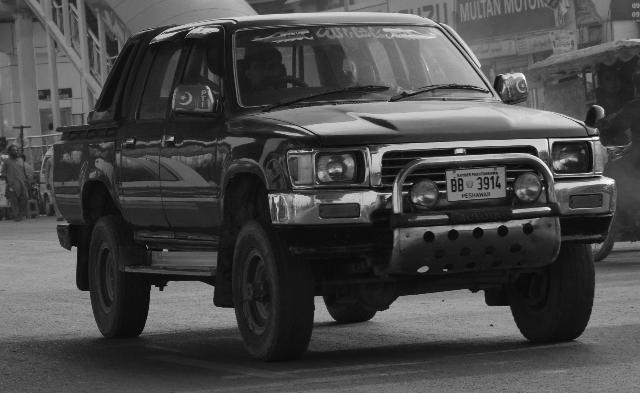Number: (448, 173, 504, 195)
